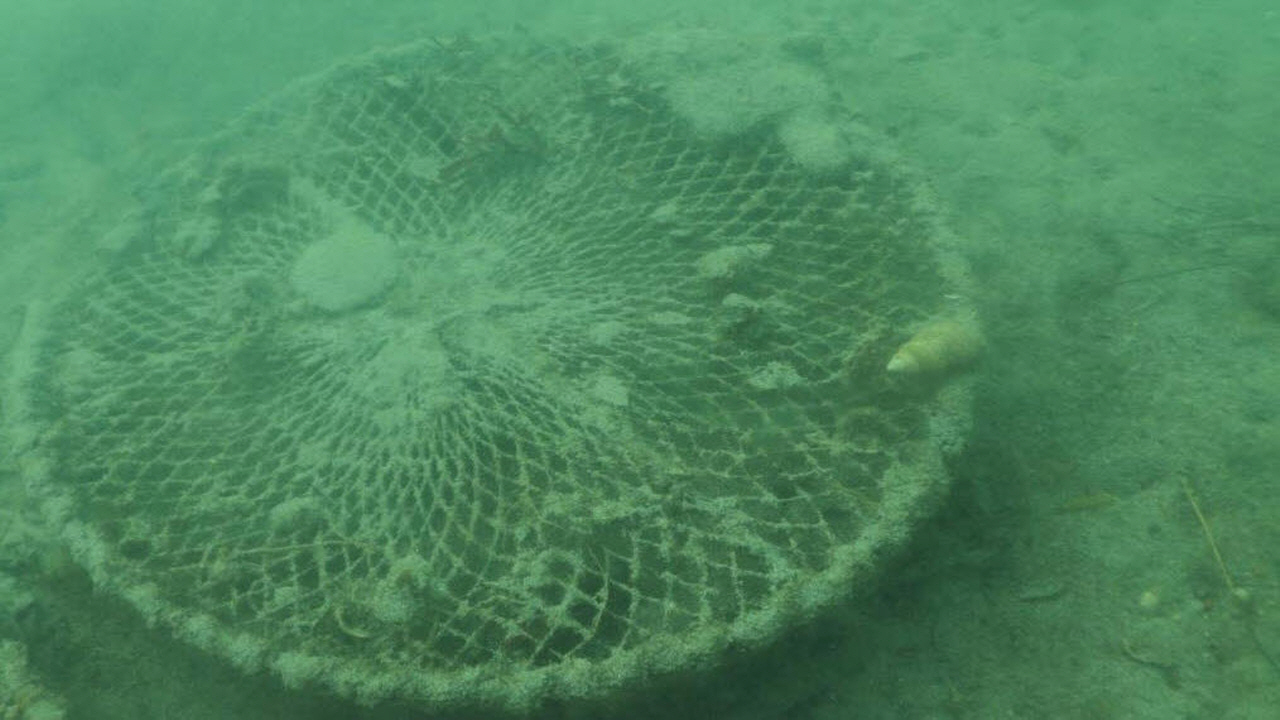circular fish trap: (8, 31, 982, 704)
